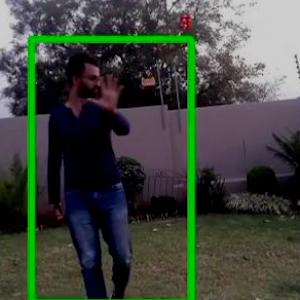follow_hand: (85, 68, 128, 112)
